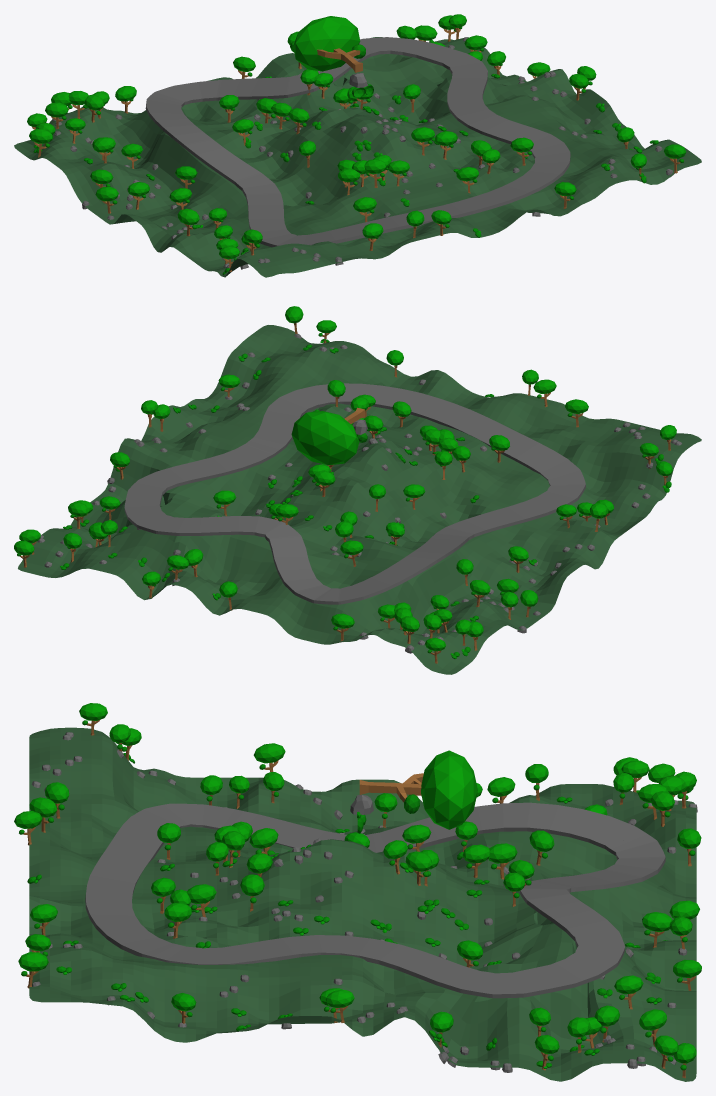
File: Track1.fbx
3 renders of one model, top to bottom at view 1: azimuth 30°, elevation 25°; view 2: azimuth 150°, elevation 25°; view 3: azimuth 270°, elevation 25°, orthographic. The views are drawn at different scales.
Parts seen in each view (by area): view 1: Plane.001, Road, Tree; view 2: Plane.001, Road, Tree; view 3: Plane.001, Road, Tree, Plane.001|Tree|Dupli|67, Plane.001|Tree|Dupli|20, Plane.001|Tree|Dupli|8, Plane.001|Tree|Dupli|46.
Boxes of the visible parts, box(x1,y1,x2,y2) form: Plane.001: box(14, 37, 701, 277); Road: box(145, 37, 570, 247); Tree: box(293, 16, 365, 72); Plane.001: box(18, 325, 701, 674); Road: box(124, 383, 585, 604); Tree: box(291, 407, 364, 465); Plane.001: box(29, 727, 696, 1081); Road: box(85, 802, 665, 998); Tree: box(359, 750, 477, 829); Plane.001|Tree|Dupli|67: box(642, 912, 672, 947); Plane.001|Tree|Dupli|20: box(488, 843, 517, 879); Plane.001|Tree|Dupli|8: box(253, 743, 285, 771); Plane.001|Tree|Dupli|46: box(18, 952, 48, 988).
Size of the model in its own units: 5907 by 1901 by 5922.
